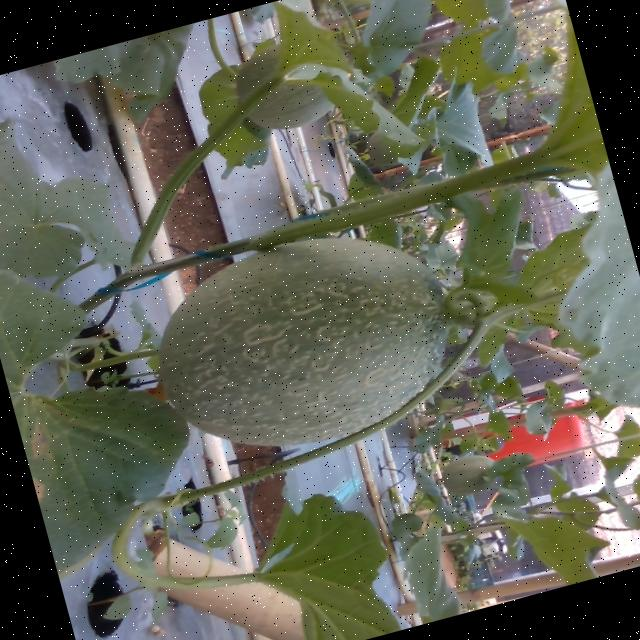melon: (159, 238, 446, 447)
